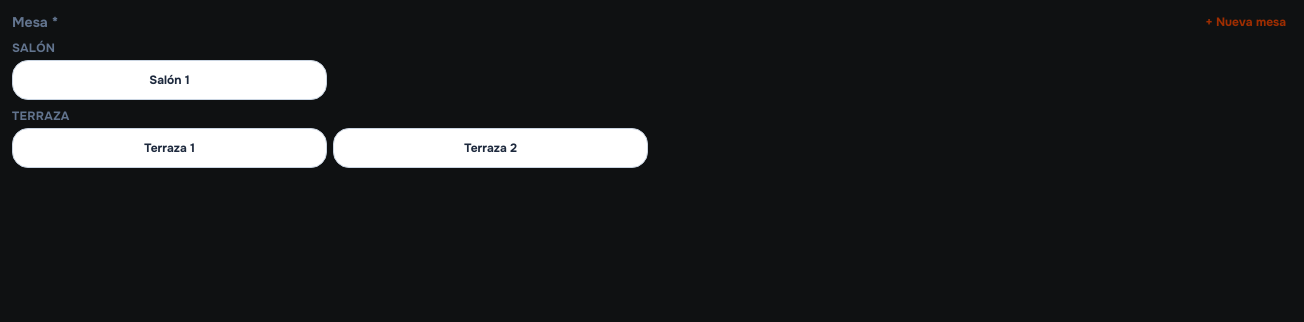
TablePicker › prefills the inline form with the most used zone and its next free number
The image size is (1304, 322).
Click the button "+ Nueva mesa". click: coordinates (1246, 22)
box: [1199,12,1292,32]
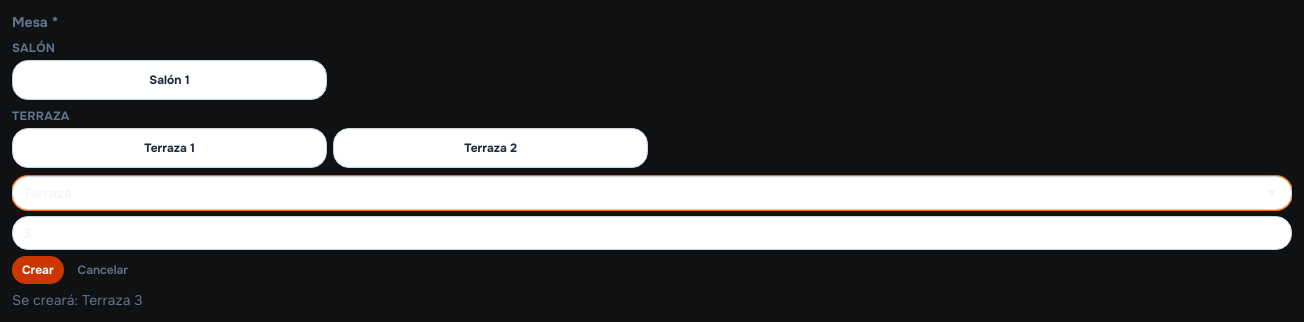
Check: the field named "Zona de la nueva mesa" holds "Terraza", box [12,176,1292,210]
Check: the number field named "Número de la nueva mesa" holds "3", box [12,216,1292,250]
